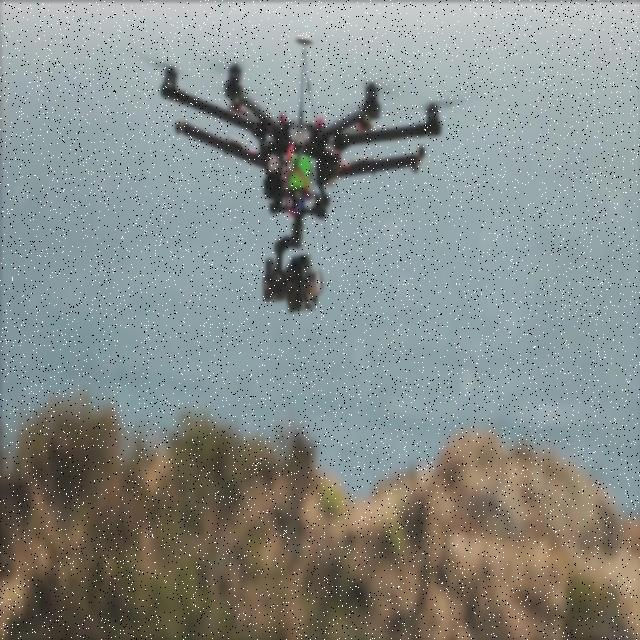UAV: (156, 34, 446, 316)
